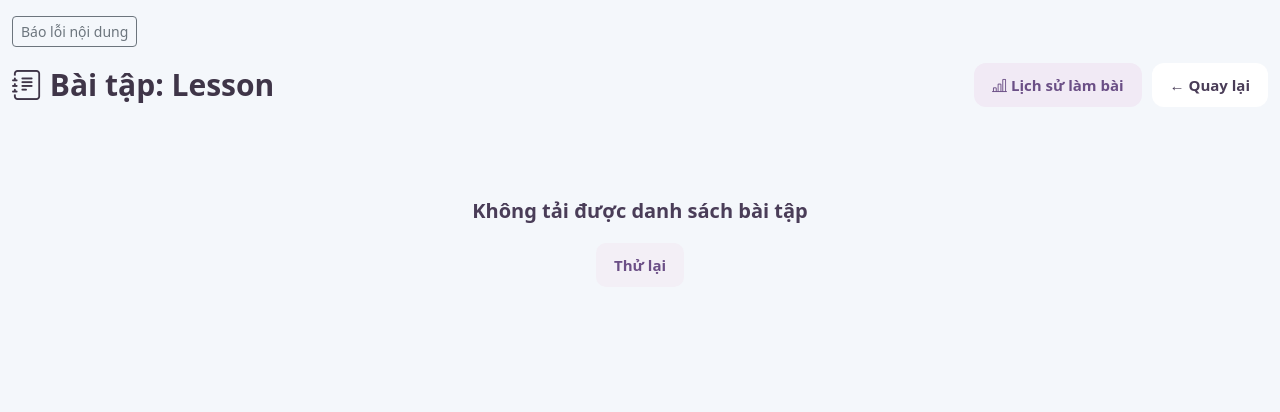
Scenario: distinguishes a loading failure from a lesson with no exercises
Expected: the text "Không có bài tập" is not shown
Click the button with class "empty-retry-btn".
click(640, 265)  # box [596,243,684,287]
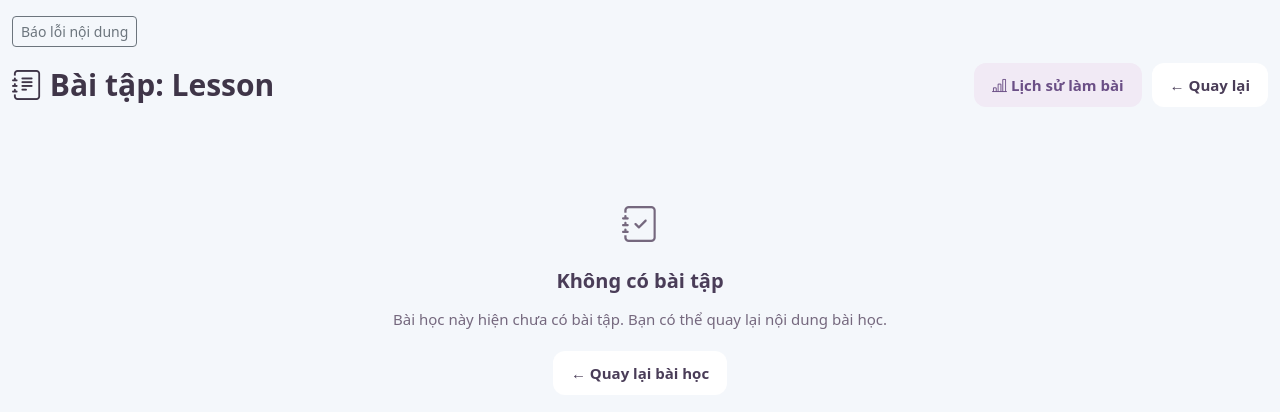
Expected: the message shows "Không có bài tập", [556,267,724,294]
